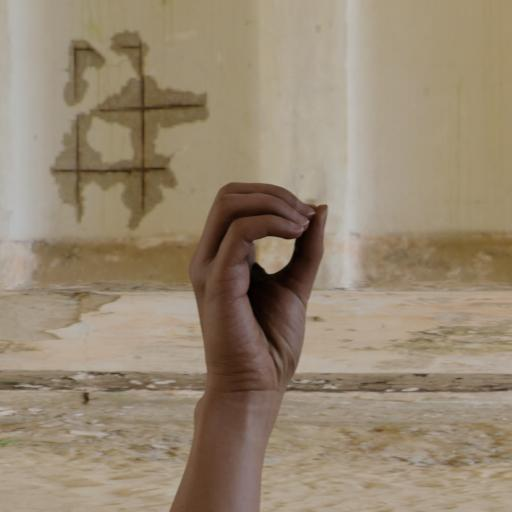O: (184, 175, 332, 390)
